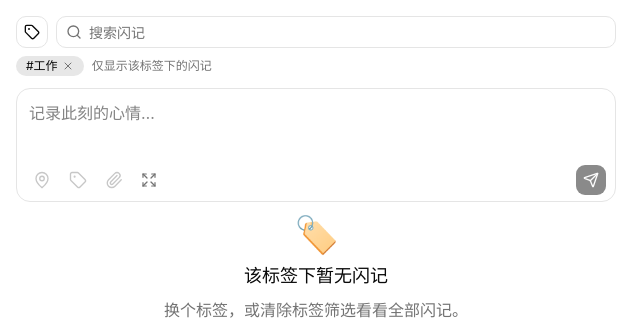
Test case: MomentList 标签筛选 › 点击 chip 的清除按钮移除标签筛选，恢复全量列表
Check: the heading "该标签下暂无闪记" is shown, box [244, 262, 388, 290]
Click the button named "清除标签筛选".
click(68, 66)  # box [62, 60, 74, 72]
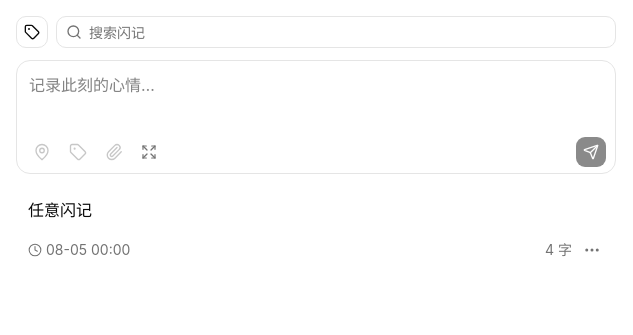
Check: the text "任意闪记" is shown, box [28, 200, 92, 220]
